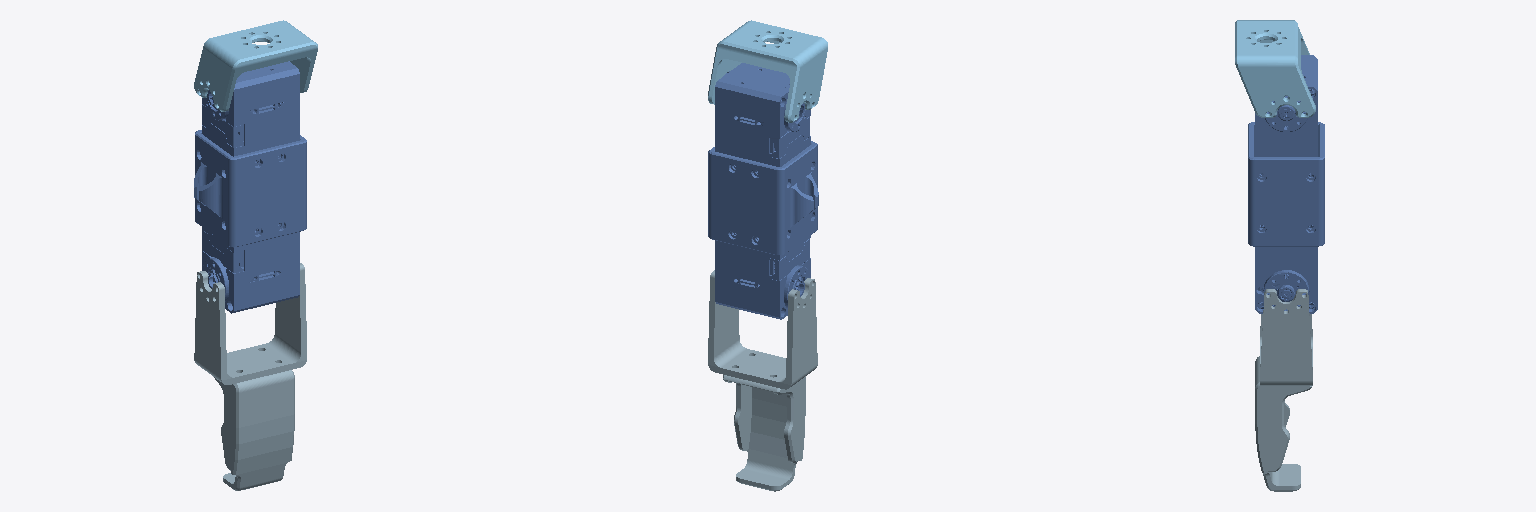
robot.urdf — right_OP3_arm:
<?xml version="1.0" ?><robot name="right_OP3_arm">  
  <link name="sho_pitch_link">    
    <visual>      
      <origin xyz="0 0 0" rpy="0 -0 0"/>      
      <geometry>        
        <mesh filename="package:///meshes/right_sho_pitch_link_visual.stl"/>        
      </geometry>      
      <material name="sho_pitch_link_material">        
        <color rgba="0.61568627450980395466 0.81176470588235294379 0.92941176470588238168 1.0"/>        
      </material>      
    </visual>    
    <collision>      
      <origin xyz="0 0 0" rpy="0 -0 0"/>      
      <geometry>        
        <mesh filename="package:///meshes/right_sho_pitch_link_collision.stl"/>        
      </geometry>      
    </collision>    
    <inertial>      
      <origin xyz="-3.0491385354136435218e-09 0.0021980515983192256725 -0.0084441034778715839959" rpy="0 0 0"/>      
      <mass value="0.005071479984796780846"/>      
      <inertia ixx="7.6348105206556708263e-07" ixy="1.1155743466407112611e-13" ixz="9.7455164554343733298e-15" iyy="1.7661180179823188739e-06" iyz="1.1100867450486858202e-07" izz="1.8650955603811039782e-06"/>      
    </inertial>    
  </link>  

  <link name="sho_roll_link">    
    <visual>      
      <origin xyz="0 0 0" rpy="0 -0 0"/>      
      <geometry>        
        <mesh filename="package:///meshes/right_sho_roll_link_visual.stl"/>        
      </geometry>      
      <material name="sho_roll_link_material">        
        <color rgba="0.41243716778099159814 0.53141040174499620807 0.72755857506443610827 1.0"/>        
      </material>      
    </visual>    
    <collision>      
      <origin xyz="0 0 0" rpy="0 -0 0"/>      
      <geometry>        
        <mesh filename="package:///meshes/right_sho_roll_link_collision.stl"/>        
      </geometry>      
    </collision>    
    <inertial>      
      <origin xyz="-0.044750001317538180834 -2.1437068092471038151e-09 -0.018766560050921397146" rpy="0 0 0"/>      
      <mass value="0.14053933881247795967"/>      
      <inertia ixx="2.5542860709012180694e-05" ixy="3.3646029014726126016e-08" ixz="-2.9382216719718211582e-12" iyy="0.00018283946647031771074" iyz="-7.6178893453431347045e-12" izz="0.00017786975360446828534"/>      
    </inertial>    
  </link>  

  <link name="elb_link">    
    <visual>      
      <origin xyz="0 0 0" rpy="0 -0 0"/>      
      <geometry>        
        <mesh filename="package:///meshes/right_elb_link_visual.stl"/>        
      </geometry>      
      <material name="elb_link_material">        
        <color rgba="0.632763333624367319 0.72211014553089536427 0.77571823267481221365 1.0"/>        
      </material>      
    </visual>    
    <collision>      
      <origin xyz="0 0 0" rpy="0 -0 0"/>      
      <geometry>        
        <mesh filename="package:///meshes/right_elb_link_collision.stl"/>        
      </geometry>      
    </collision>    
    <inertial>      
      <origin xyz="0.0035809919318979597895 -0.051692930824585016369 0.019000000360375909197" rpy="0 0 0"/>      
      <mass value="0.011587175244532097601"/>      
      <inertia ixx="9.8008364445091835835e-06" ixy="7.9870408555378004964e-07" ixz="-2.3421923325125110387e-13" iyy="2.9172843721889862441e-06" iyz="2.5739601650249702971e-14" izz="8.0566619883510791155e-06"/>      
    </inertial>    
  </link>  

  <joint name="right_elb" type="revolute">    
    <origin xyz="-0.08949999999999827538 -7.2650219173908681114e-15 1.0956513474269513608e-14" rpy="-3.1415926535897145122 9.187667647645342109e-14 1.5707963267949796027"/>    
    <parent link="sho_roll_link"/>    
    <child link="elb_link"/>    
    <axis xyz="0 0 1"/>    
    <limit effort="1" velocity="20" lower="-1.570796326794896558" upper="1.570796326794896558"/>    
    <joint_properties friction="0.0"/>    
  </joint>  

  <joint name="right_sho_roll" type="revolute">    
    <origin xyz="0.018999999999999954425 0.0089999999999999576866 -0.027499999999999899525" rpy="-3.1415926535896976368 -1.5707963267948958919 0"/>    
    <parent link="sho_pitch_link"/>    
    <child link="sho_roll_link"/>    
    <axis xyz="0 0 1"/>    
    <limit effort="1" velocity="20" lower="-1.570796326794896558" upper="1.570796326794896558"/>    
    <joint_properties friction="0.0"/>    
  </joint>  


</robot>

--- Render facts (derived) ---
The picture shows the robot from 3 angles, left to right: view 1: azimuth 30°, elevation 25°; view 2: azimuth 150°, elevation 25°; view 3: azimuth 270°, elevation 25°; orthographic projection.
Robot: right_OP3_arm — 3 links, 2 joints (2 revolute); root link sho_pitch_link; default pose: every joint at zero.
Links seen in each view (by area): view 1: sho_roll_link, elb_link, sho_pitch_link; view 2: sho_roll_link, elb_link, sho_pitch_link; view 3: sho_roll_link, elb_link, sho_pitch_link.
Link boxes in pixels (<box>): sho_roll_link: <box>194,61,306,313</box>; elb_link: <box>194,263,306,490</box>; sho_pitch_link: <box>194,20,317,111</box>; sho_roll_link: <box>708,63,818,319</box>; elb_link: <box>708,270,817,491</box>; sho_pitch_link: <box>708,20,827,122</box>; sho_roll_link: <box>1248,55,1324,313</box>; elb_link: <box>1255,289,1312,491</box>; sho_pitch_link: <box>1235,20,1315,117</box>.
Size in the robot's own frame: 0.0499 by 0.0402 by 0.219 metres.
3 mesh visuals loaded from 3 distinct referenced files (3 binary STL).